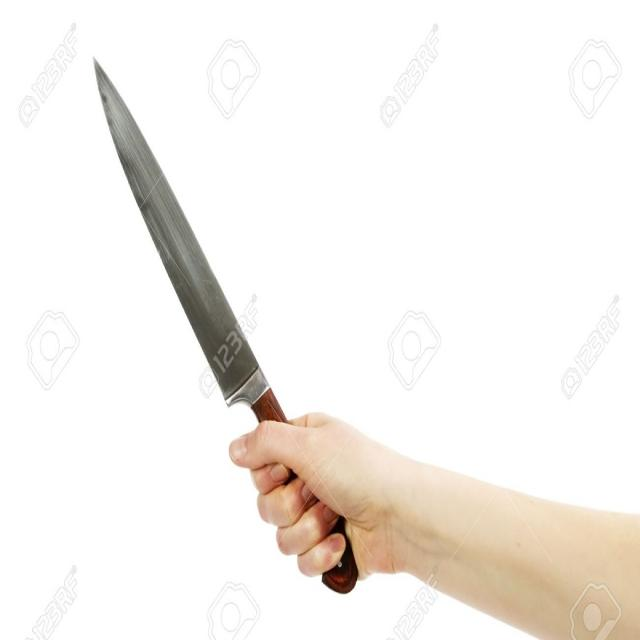knife: (88, 51, 362, 604)
